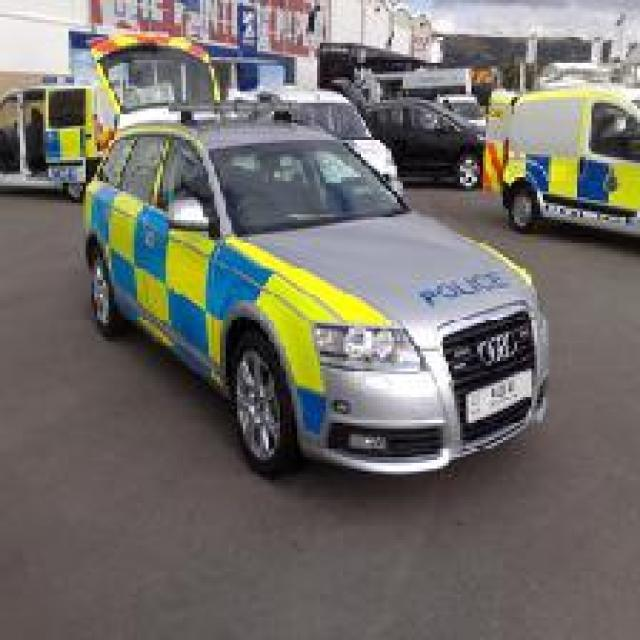emergency: (80, 115, 552, 481), (480, 81, 638, 241)
